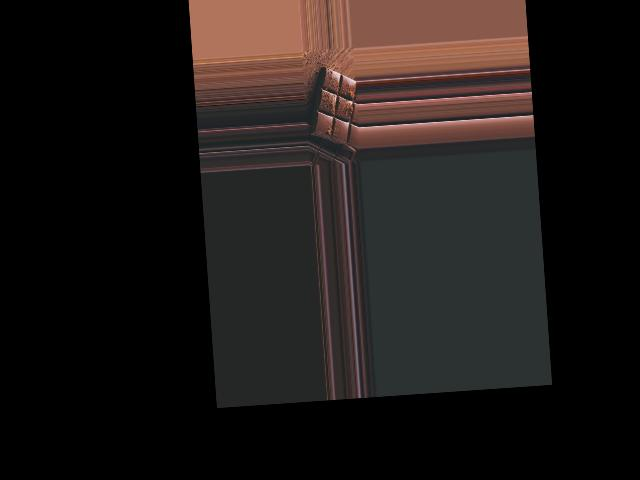chocolate: (307, 61, 359, 152)
